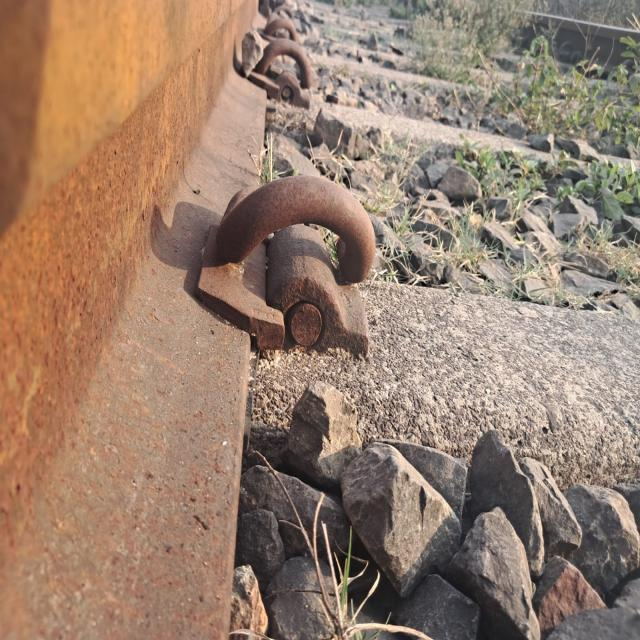overrailed: (190, 155, 438, 440)
